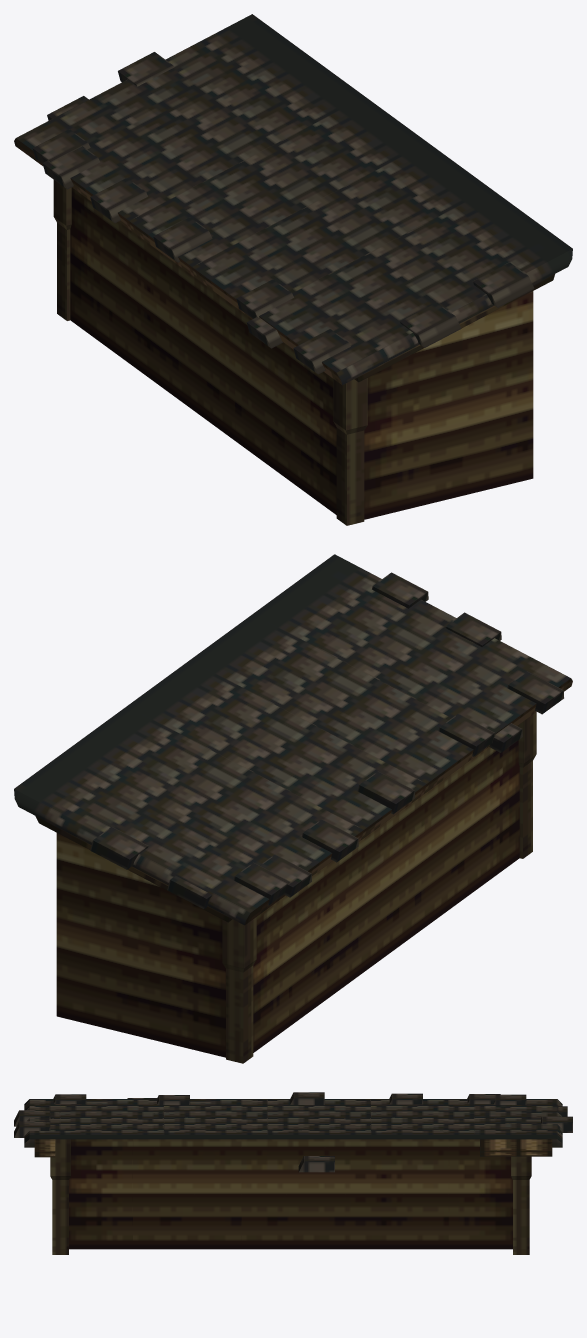
Rendered from EnvBdgMD_WoodHouse_A_Outdoor_Roof_A.FBX.
The picture shows the model from 3 angles, top to bottom: view 1: azimuth 30°, elevation 25°; view 2: azimuth 150°, elevation 25°; view 3: azimuth 270°, elevation 25°; orthographic projection. The views are drawn at different scales.
Visible parts, largest first — view 1: EnvBdgMD_WoodHouse_A_Outdoor_Roof_A; view 2: EnvBdgMD_WoodHouse_A_Outdoor_Roof_A; view 3: EnvBdgMD_WoodHouse_A_Outdoor_Roof_A.
Boxes of the visible parts, x1,y1,x2,y2 form: EnvBdgMD_WoodHouse_A_Outdoor_Roof_A: (14, 14, 572, 525); EnvBdgMD_WoodHouse_A_Outdoor_Roof_A: (14, 554, 572, 1063); EnvBdgMD_WoodHouse_A_Outdoor_Roof_A: (14, 1092, 572, 1254).
Bounding box in the file's own units: 228 × 207 × 540.
Materials: 1 (1 with a texture image).
